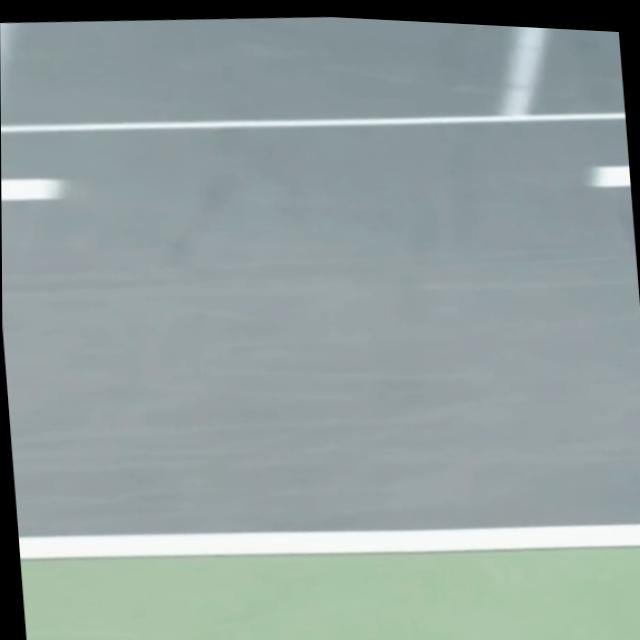center: (1, 176, 67, 199), (588, 164, 630, 185)
right: (18, 522, 640, 556)
